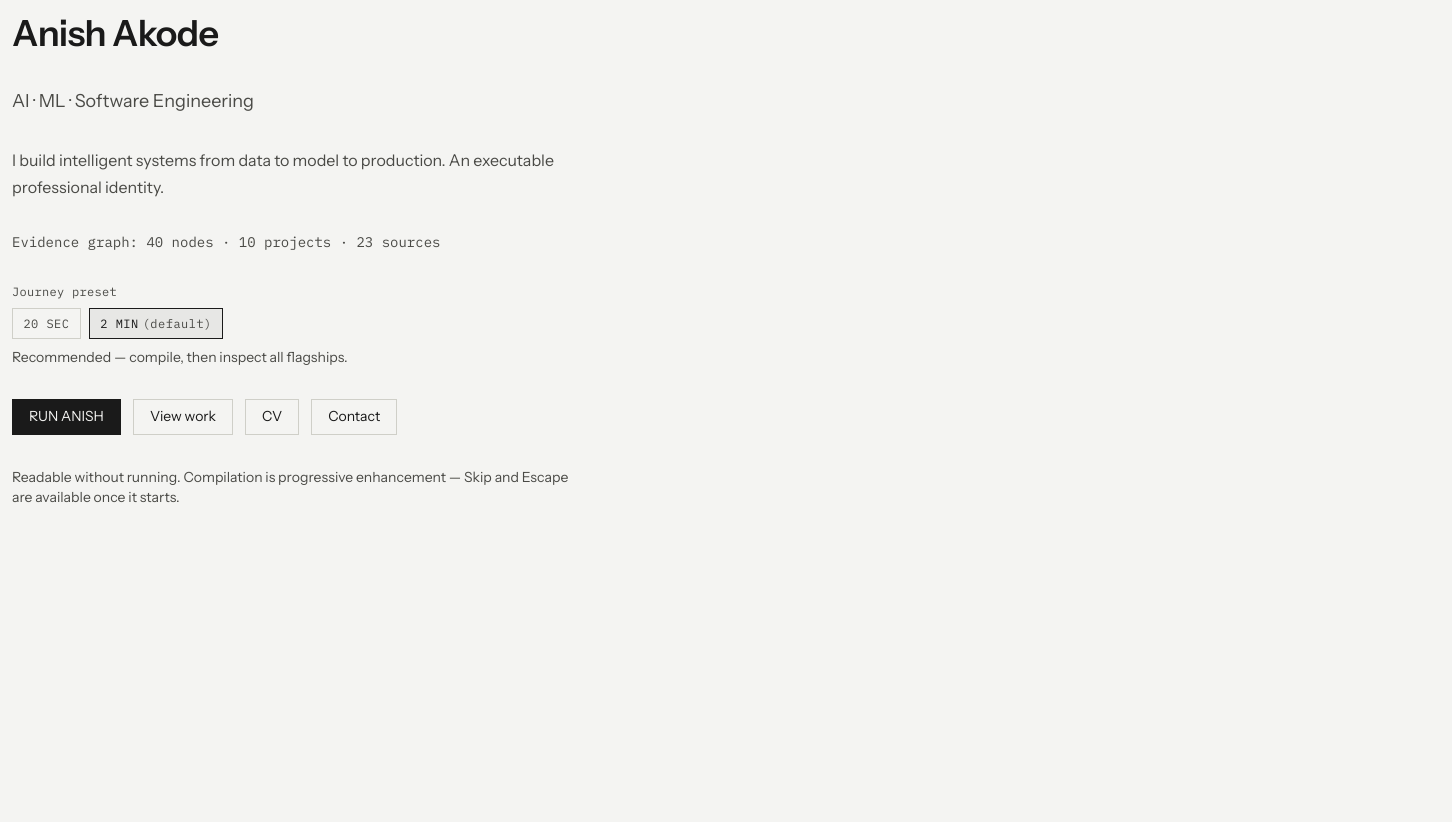
it: HomeRuntime (M4) › Escape during compilation settles the runtime
The width and height of the screenshot is (1452, 822).
Click the button "RUN ANISH" at (66, 417), box top-left (12, 399), bottom-right (121, 435)
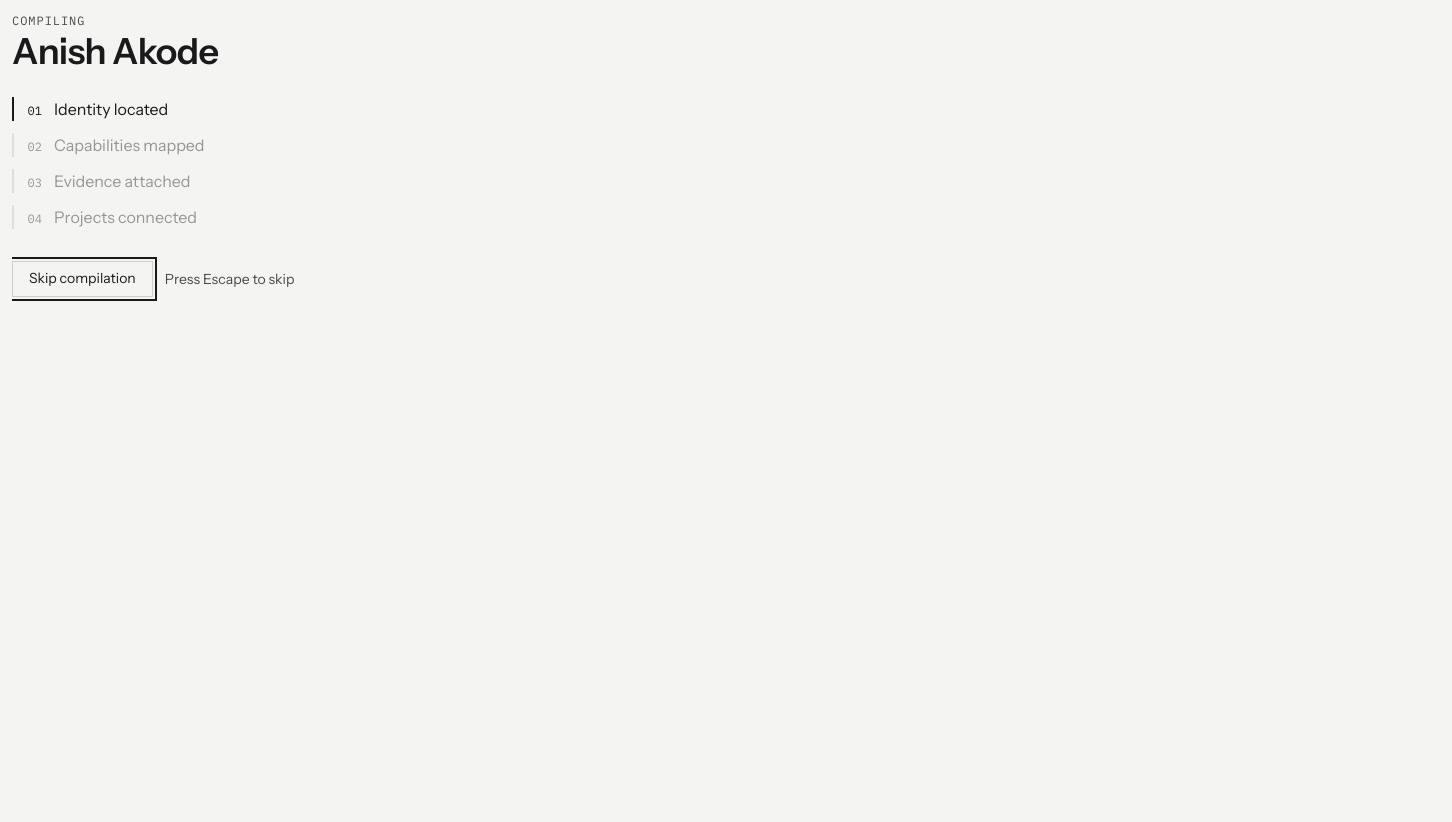
Press Escape
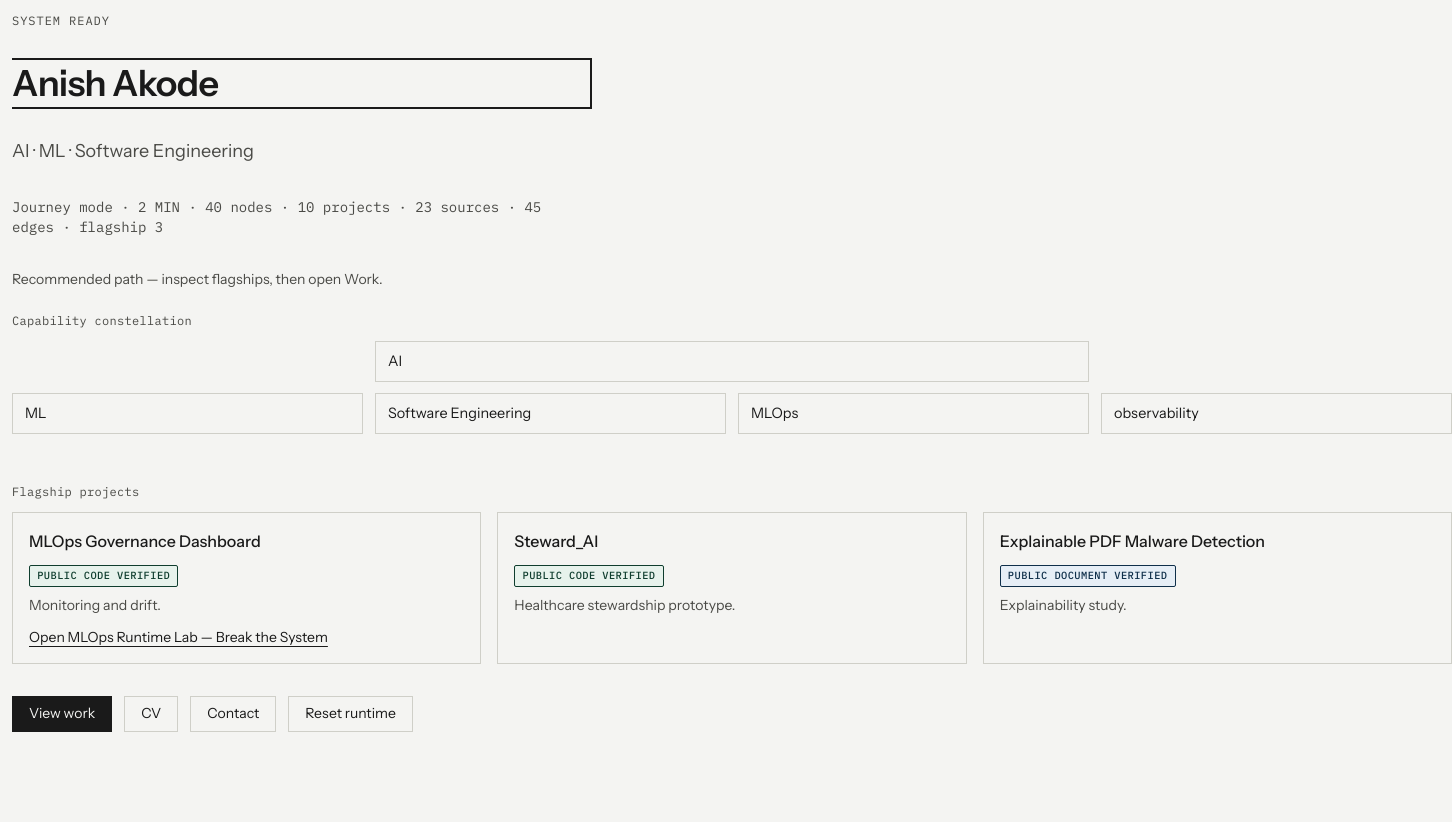
Expected: the text "System ready" is shown, top-left (12, 13), bottom-right (110, 28)
